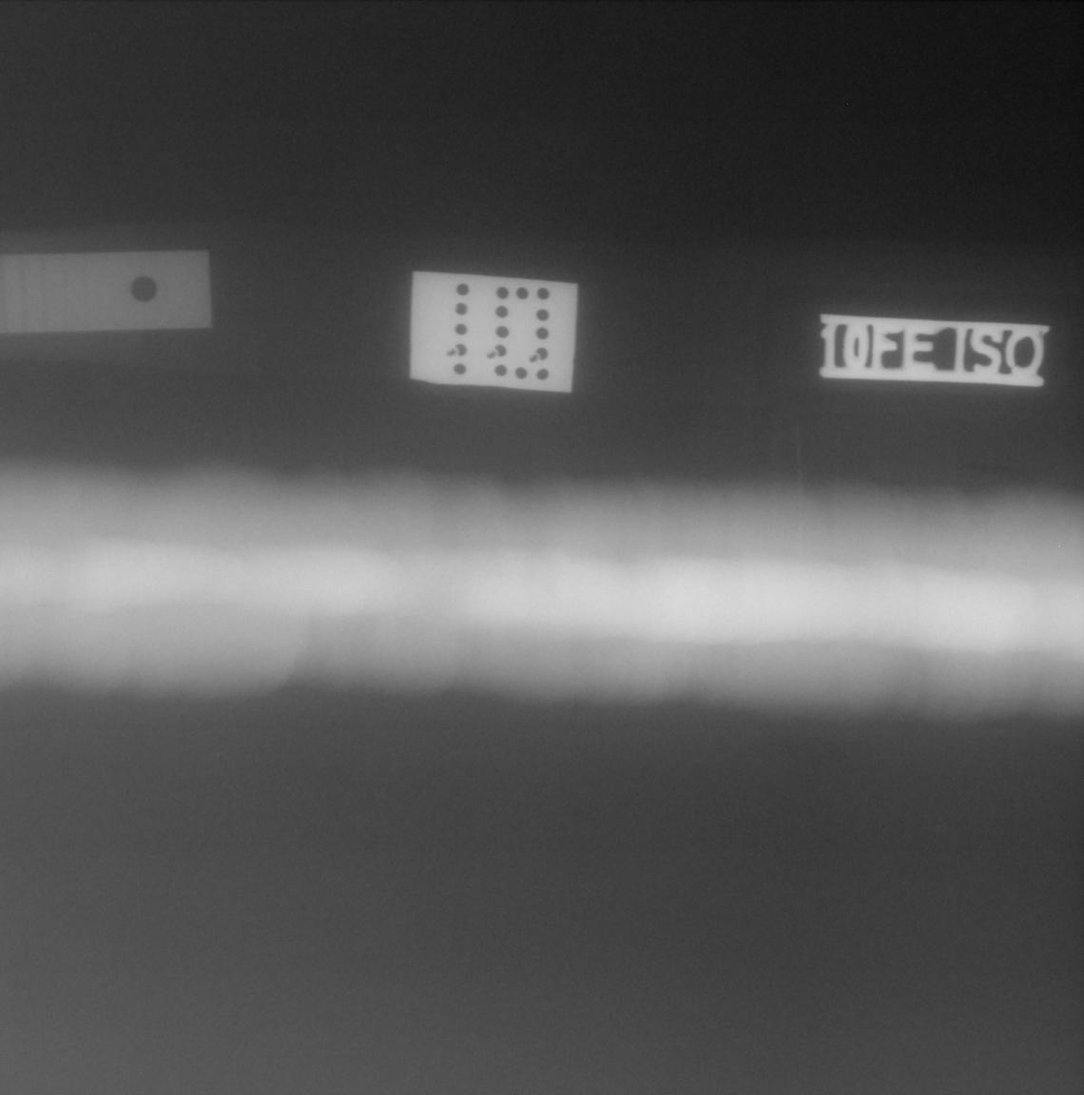Inclusion: (209, 538, 226, 550)
